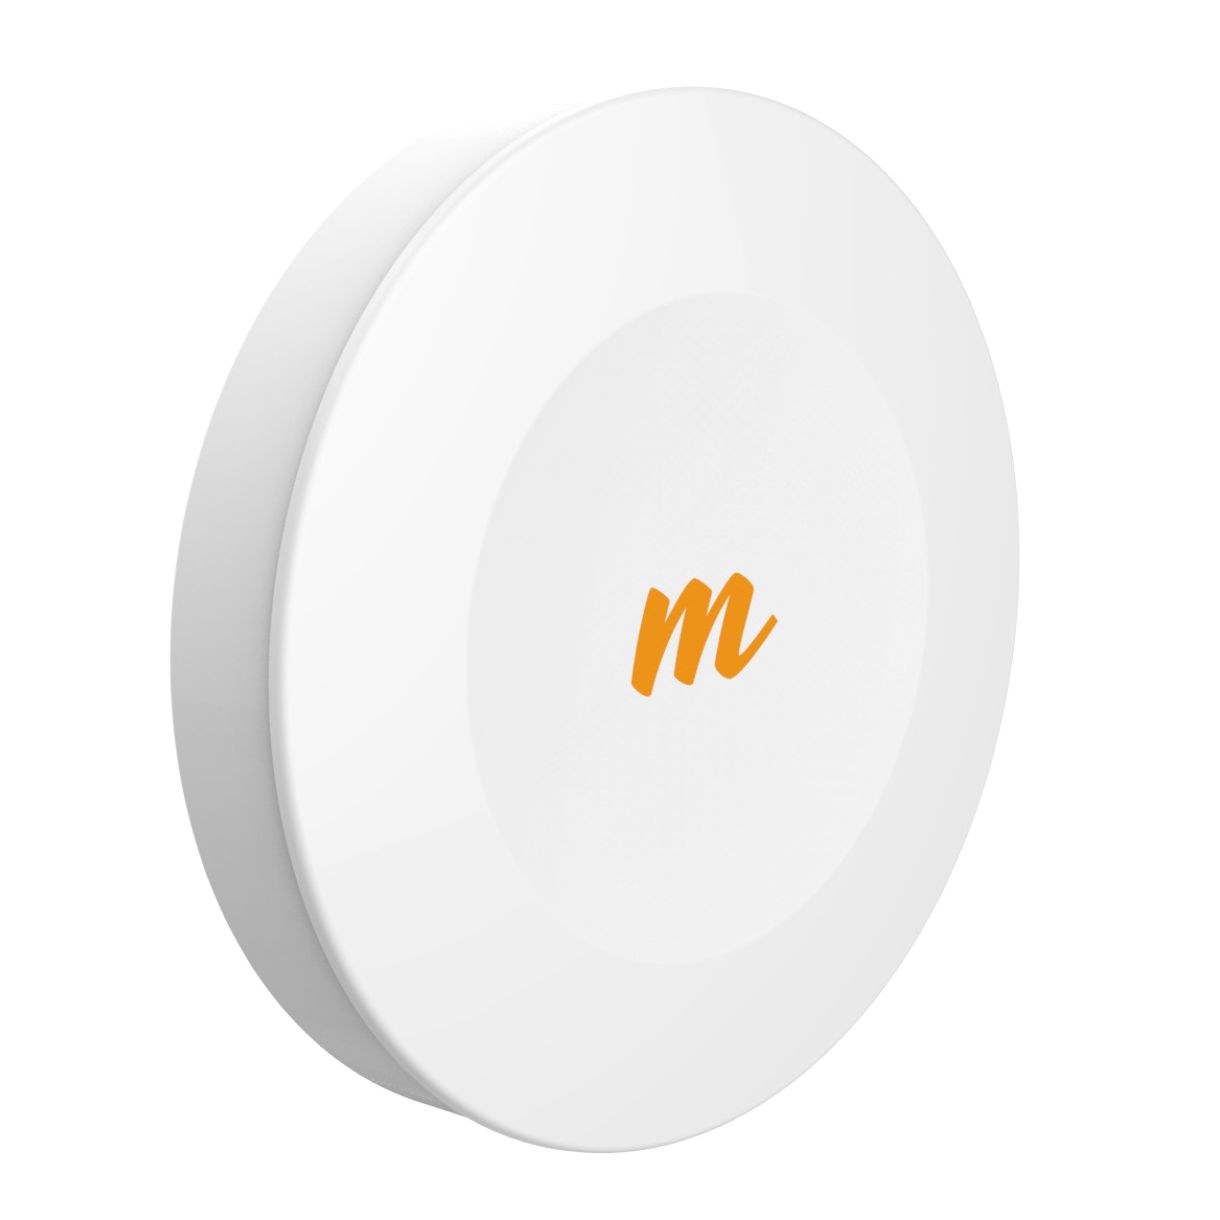ba: (104, 26, 1090, 1194)
